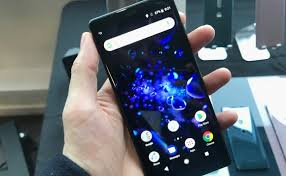sony: (83, 1, 231, 176)
